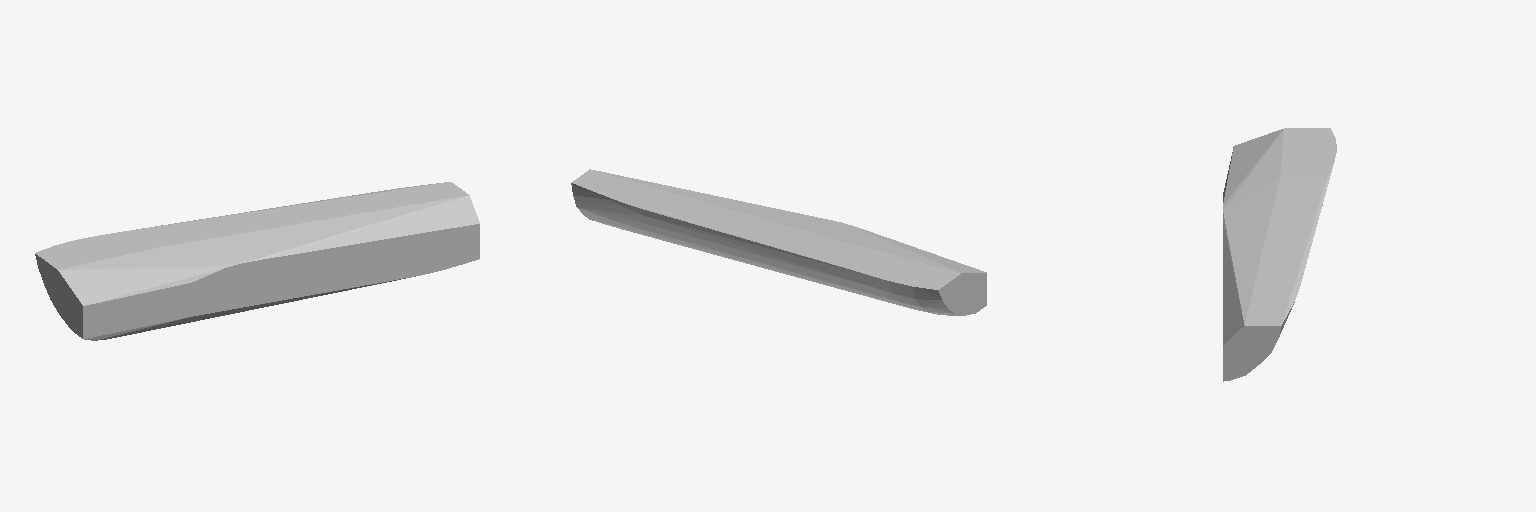
Rendered from phantom-elastrat_collision_128.obj.
3 views of the same model, side by side, from view 1: azimuth 30°, elevation 25°; view 2: azimuth 150°, elevation 25°; view 3: azimuth 270°, elevation 25° (orthographic).
Size of the model in its own units: 0.0205 by 0.0032 by 0.0051.